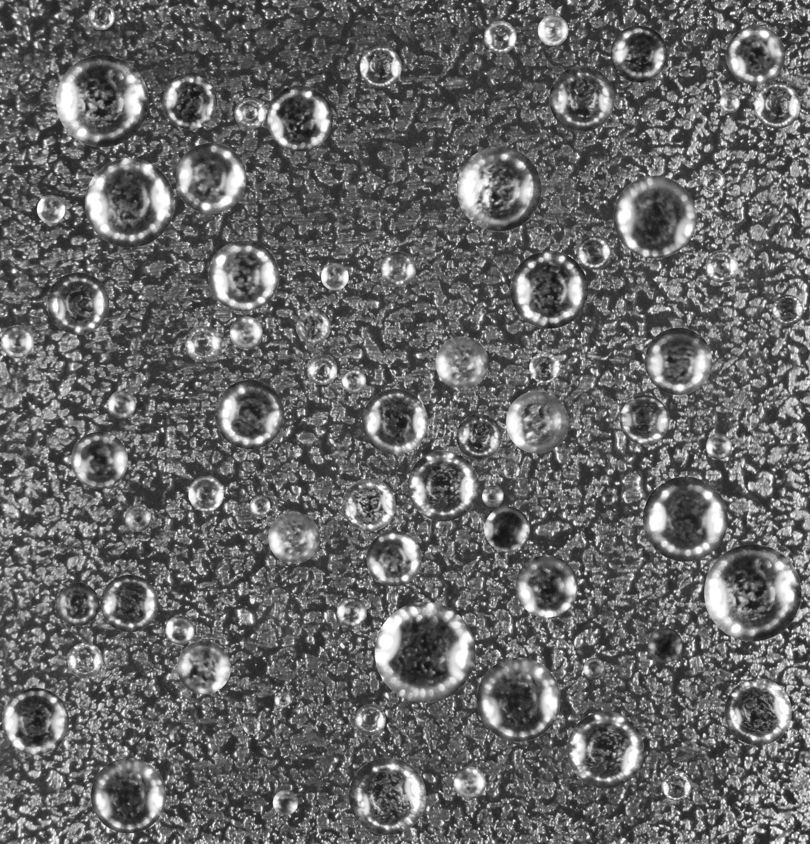Bubble: (374, 602, 475, 702), (704, 544, 801, 641), (56, 54, 148, 147), (84, 158, 174, 247), (456, 146, 541, 231), (643, 476, 727, 561), (476, 657, 560, 741), (613, 175, 696, 258), (510, 250, 588, 328), (348, 757, 426, 835), (567, 711, 644, 788), (90, 758, 165, 833), (175, 142, 246, 213), (208, 240, 279, 311), (407, 450, 478, 521), (215, 380, 284, 449), (724, 678, 791, 745), (645, 327, 712, 394), (2, 688, 68, 754), (266, 85, 332, 151), (362, 389, 427, 454), (549, 66, 614, 131), (46, 272, 109, 334), (506, 391, 568, 453), (515, 555, 577, 617), (726, 25, 785, 84), (100, 574, 158, 632), (610, 25, 667, 82), (71, 431, 127, 488), (366, 531, 421, 586), (162, 75, 217, 129), (177, 640, 230, 694), (342, 478, 395, 531), (435, 336, 488, 389), (268, 512, 319, 563), (619, 395, 669, 444), (754, 82, 800, 128), (456, 414, 501, 459), (484, 506, 529, 551), (55, 582, 99, 626), (359, 46, 401, 88), (184, 325, 221, 362), (67, 642, 102, 678), (295, 308, 331, 343), (647, 627, 682, 662), (381, 251, 416, 286), (188, 476, 223, 511), (577, 235, 611, 269), (229, 316, 262, 349), (0, 325, 33, 358), (705, 250, 738, 282), (484, 20, 516, 53), (453, 766, 485, 799), (234, 97, 266, 129), (354, 704, 385, 735), (529, 352, 560, 383), (772, 294, 803, 325), (537, 15, 568, 45), (306, 354, 337, 384), (336, 597, 366, 627), (662, 771, 691, 801), (165, 615, 194, 644), (36, 195, 65, 223), (107, 390, 135, 418), (321, 262, 348, 290), (87, 2, 114, 29), (124, 505, 151, 531), (706, 433, 731, 459), (272, 790, 297, 815), (341, 368, 366, 393), (702, 169, 725, 192), (583, 658, 605, 679), (249, 495, 270, 516), (482, 485, 503, 506), (719, 92, 740, 112), (243, 717, 260, 734), (274, 691, 290, 708), (503, 462, 519, 478), (786, 430, 800, 444), (602, 491, 615, 504)
